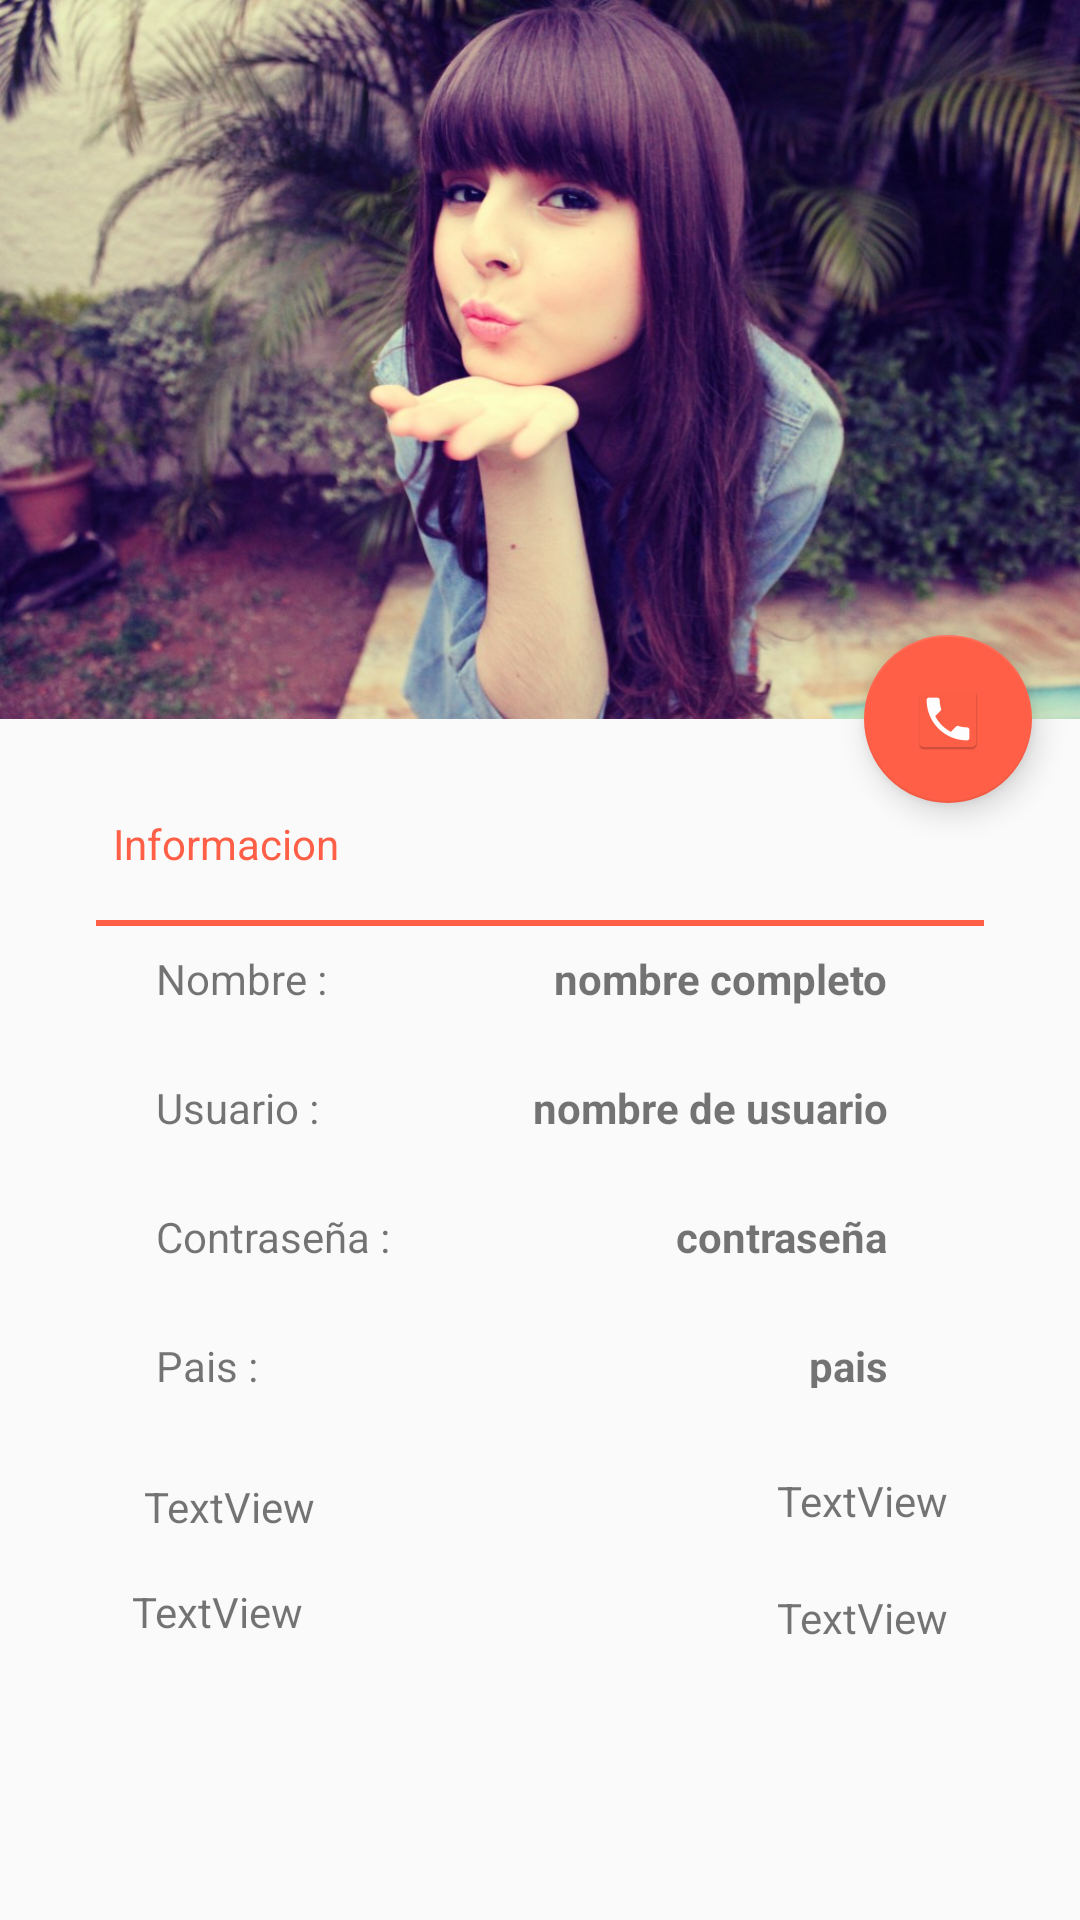

Screen size 1080px x 1920px. Icon name, then its center in pixels as [x,y]:
phone: [948,719]
